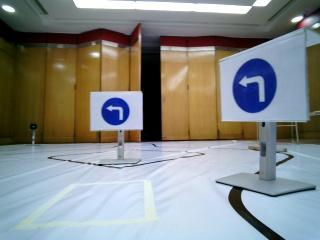left: (220, 62, 296, 119), (87, 92, 143, 129)
